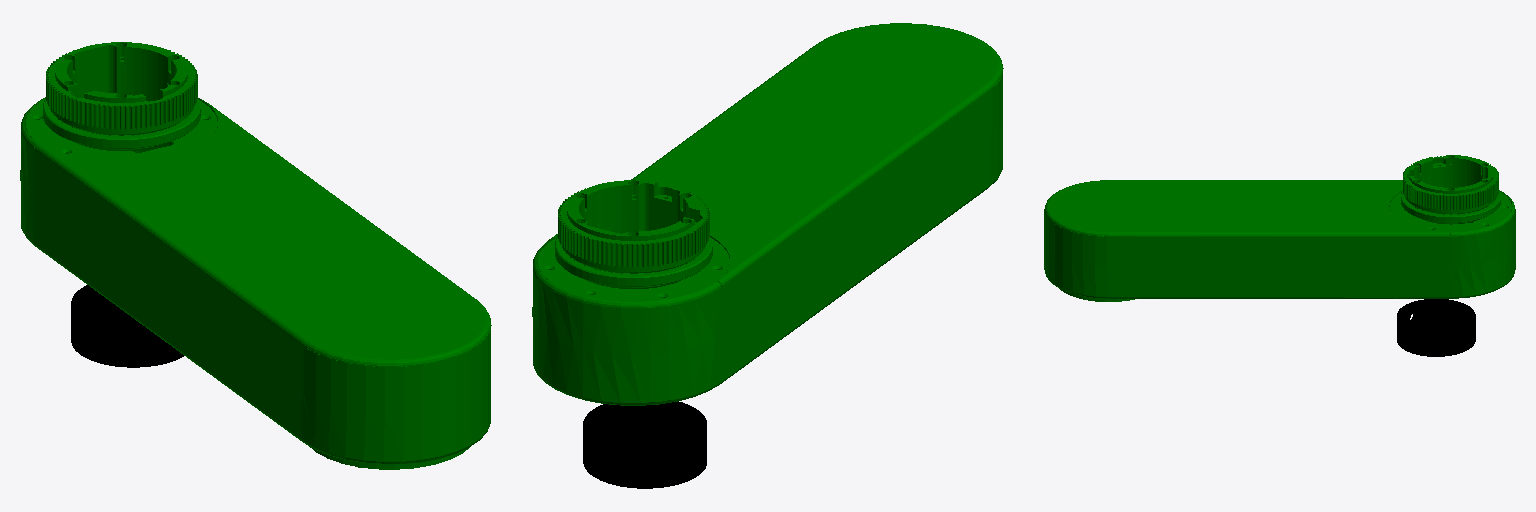
robot.urdf — PF400_mate lineer_axis:
<?xml version="1.0" encoding="utf-8"?>
<!-- This URDF was automatically created by SolidWorks to URDF Exporter! Originally created by [author] ([email redacted]) 
     Commit Version: 1.6.0-4-g7f85cfe  Build Version: 1.6.7995.38578
     For more information, please see http://wiki.ros.org/sw_urdf_exporter -->
<robot
  name="PF400_mate lineer_axis">
  <link
    name="base_link">
    <inertial>
      <origin
        xyz="-0.00041451 0.026054 -0.001966"
        rpy="0 0 0" />
      <mass
        value="17.991" />
      <inertia
        ixx="7.5197"
        ixy="-8.8961E-06"
        ixz="4.7695E-05"
        iyy="7.5696"
        iyz="2.0688E-06"
        izz="0.054258" />
    </inertial>
    <visual>
      <origin
        xyz="0 0 0"
        rpy="0 0 0" />
      <geometry>
        <mesh
          filename="package://PF400_mate lineer_axis/meshes/base_link.STL" />
      </geometry>
      <material
        name="">
        <color
          rgba="0.64706 0.61961 0.58824 1" />
      </material>
    </visual>
    <collision>
      <origin
        xyz="0 0 0"
        rpy="0 0 0" />
      <geometry>
        <mesh
          filename="package://PF400_mate lineer_axis/meshes/base_link.STL" />
      </geometry>
    </collision>
  </link>
  <link
    name="rail">
    <inertial>
      <origin
        xyz="0.0028859 0.040612 0.0031229"
        rpy="0 0 0" />
      <mass
        value="1.7574" />
      <inertia
        ixx="0.0054602"
        ixy="-4.7938E-05"
        ixz="1.3806E-05"
        iyy="0.012854"
        iyz="5.9293E-05"
        izz="0.0079198" />
    </inertial>
    <visual>
      <origin
        xyz="0 0 0"
        rpy="0 0 0" />
      <geometry>
        <mesh
          filename="package://PF400_mate lineer_axis/meshes/rail.STL" />
      </geometry>
      <material
        name="">
        <color
          rgba="0.75294 0.75294 0.75294 1" />
      </material>
    </visual>
    <collision>
      <origin
        xyz="0 0 0"
        rpy="0 0 0" />
      <geometry>
        <mesh
          filename="package://PF400_mate lineer_axis/meshes/rail.STL" />
      </geometry>
    </collision>
  </link>
  <joint
    name="rail_joint"
    type="prismatic">
    <origin
      xyz="0 0.011 0.032"
      rpy="1.5708 0 0" />
    <parent
      link="base_link" />
    <child
      link="rail" />
    <axis
      xyz="0 0 0" />
    <limit
      lower="0"
      upper="0"
      effort="0"
      velocity="0" />
  </joint>
  <link
    name="tower">
    <inertial>
      <origin
        xyz="-0.00086637 0.68242 -0.043894"
        rpy="0 0 0" />
      <mass
        value="5.7231" />
      <inertia
        ixx="0.82016"
        ixy="0.0016757"
        ixz="-0.00020393"
        iyy="0.026182"
        iyz="-0.0003951"
        izz="0.82953" />
    </inertial>
    <visual>
      <origin
        xyz="0 0 0"
        rpy="0 0 0" />
      <geometry>
        <mesh
          filename="package://PF400_mate lineer_axis/meshes/tower.STL" />
      </geometry>
      <material
        name="">
        <color
          rgba="0.64706 0.61961 0.58431 1" />
      </material>
    </visual>
    <collision>
      <origin
        xyz="0 0 0"
        rpy="0 0 0" />
      <geometry>
        <mesh
          filename="package://PF400_mate lineer_axis/meshes/tower.STL" />
      </geometry>
    </collision>
  </link>
  <joint
    name="tower_joint"
    type="prismatic">
    <origin
      xyz="0.0003782 0.0902 0"
      rpy="0 0 0" />
    <parent
      link="rail" />
    <child
      link="tower" />
    <axis
      xyz="0 0 0" />
    <limit
      lower="0"
      upper="0"
      effort="0"
      velocity="0" />
  </joint>
  <link
    name="inner_link">
    <inertial>
      <origin
        xyz="0.0022202 -0.020187 0.0058266"
        rpy="0 0 0" />
      <mass
        value="0.10693" />
      <inertia
        ixx="6.787E-05"
        ixy="3.7413E-07"
        ixz="-2.7126E-07"
        iyy="7.2417E-05"
        iyz="-2.8738E-07"
        izz="0.00013136" />
    </inertial>
    <visual>
      <origin
        xyz="0 0 0"
        rpy="0 0 0" />
      <geometry>
        <mesh
          filename="package://PF400_mate lineer_axis/meshes/inner_link.STL" />
      </geometry>
      <material
        name="">
        <color
          rgba="0 0.49804 0 1" />
      </material>
    </visual>
    <collision>
      <origin
        xyz="0 0 0"
        rpy="0 0 0" />
      <geometry>
        <mesh
          filename="package://PF400_mate lineer_axis/meshes/inner_link.STL" />
      </geometry>
    </collision>
  </link>
  <joint
    name="inner_link_joint"
    type="revolute">
    <origin
      xyz="0.00020005 0.19773 0.10265"
      rpy="-1.5708 0 0" />
    <parent
      link="tower" />
    <child
      link="inner_link" />
    <axis
      xyz="0 0 0" />
    <limit
      lower="0"
      upper="0"
      effort="0"
      velocity="0" />
  </joint>
  <link
    name="outer_link">
    <inertial>
      <origin
        xyz="0.00033501 0.033171 0.23866"
        rpy="0 0 0" />
      <mass
        value="0.1216" />
      <inertia
        ixx="7.8784E-05"
        ixy="1.4155E-09"
        ixz="-6.4526E-08"
        iyy="0.00015812"
        iyz="-1.1506E-09"
        izz="8.7907E-05" />
    </inertial>
    <visual>
      <origin
        xyz="0 0 0"
        rpy="0 0 0" />
      <geometry>
        <mesh
          filename="package://PF400_mate lineer_axis/meshes/outer_link.STL" />
      </geometry>
      <material
        name="">
        <color
          rgba="1 1 0 1" />
      </material>
    </visual>
    <collision>
      <origin
        xyz="0 0 0"
        rpy="0 0 0" />
      <geometry>
        <mesh
          filename="package://PF400_mate lineer_axis/meshes/outer_link.STL" />
      </geometry>
    </collision>
  </link>
  <joint
    name="outer_link_joint"
    type="revolute">
    <origin
      xyz="0 -0.013 -0.098775"
      rpy="1.5708 0 0" />
    <parent
      link="inner_link" />
    <child
      link="outer_link" />
    <axis
      xyz="0 0 0" />
    <limit
      lower="0"
      upper="0"
      effort="0"
      velocity="0" />
  </joint>
  <link
    name="end_effector">
    <inertial>
      <origin
        xyz="-0.022182 -0.013407 0.024316"
        rpy="0 0 0" />
      <mass
        value="0.065158" />
      <inertia
        ixx="2.4492E-05"
        ixy="-1.316E-08"
        ixz="-1.9273E-10"
        iyy="4.2008E-05"
        iyz="2.4792E-08"
        izz="2.4392E-05" />
    </inertial>
    <visual>
      <origin
        xyz="0 0 0"
        rpy="0 0 0" />
      <geometry>
        <mesh
          filename="package://PF400_mate lineer_axis/meshes/end_effector.STL" />
      </geometry>
      <material
        name="">
        <color
          rgba="0 0 0 1" />
      </material>
    </visual>
    <collision>
      <origin
        xyz="0 0 0"
        rpy="0 0 0" />
      <geometry>
        <mesh
          filename="package://PF400_mate lineer_axis/meshes/end_effector.STL" />
      </geometry>
    </collision>
  </link>
  <joint
    name="end_effector_joint"
    type="revolute">
    <origin
      xyz="0.022804 -0.0082758 -0.024541"
      rpy="0 0 0" />
    <parent
      link="outer_link" />
    <child
      link="end_effector" />
    <axis
      xyz="0 0 0" />
    <limit
      lower="0"
      upper="0"
      effort="0"
      velocity="0" />
  </joint>
</robot>

--- Render facts (derived) ---
The picture shows the robot from 3 angles, left to right: view 1: azimuth 30°, elevation 25°; view 2: azimuth 150°, elevation 25°; view 3: azimuth 270°, elevation 25°; orthographic projection.
Model PF400_mate lineer_axis with 6 links and 5 joints (3 revolute, 2 prismatic), rooted at base_link, posed every joint at zero.
Links seen in each view (by area): view 1: inner_link, end_effector; view 2: inner_link, end_effector; view 3: inner_link, end_effector.
Link boxes in pixels (x1,y1,x2,y2): inner_link: (20,42,491,469); end_effector: (71,285,183,367); inner_link: (532,23,1003,405); end_effector: (583,401,706,488); inner_link: (1044,155,1515,301); end_effector: (1397,299,1475,356).
Size in the robot's own frame: 0.114 by 0.416 by 0.1694 metres.
Meshes: 6 distinct files referenced, 2 mesh visuals loaded (2 binary STL); not drawn: 2 (reference not matched to a file when rendering), 2 (file found but could not be loaded).